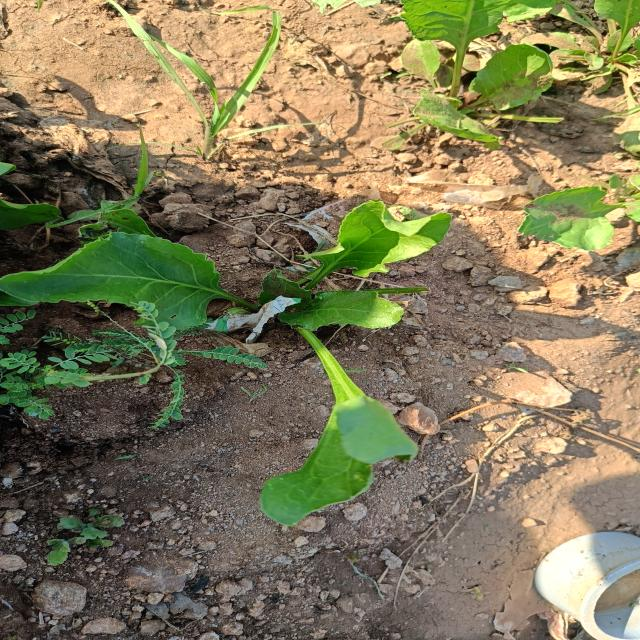leaves: (244, 328, 436, 531), (7, 215, 238, 356), (297, 198, 461, 305), (486, 194, 635, 263), (269, 283, 429, 340)
